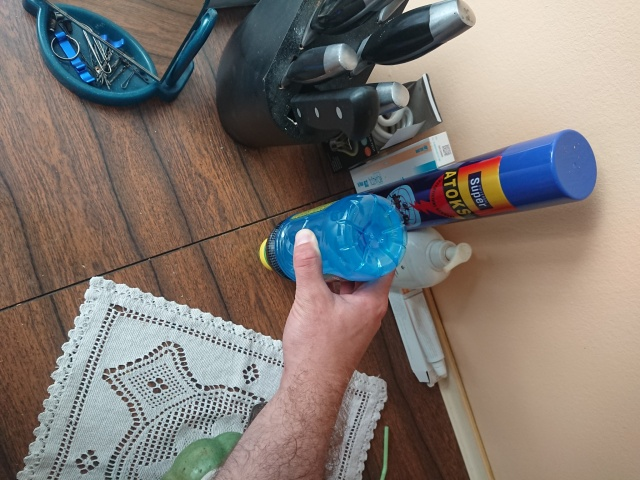Vindi Iso Sport Forest Strawberries 500mL: (255, 191, 409, 286)
